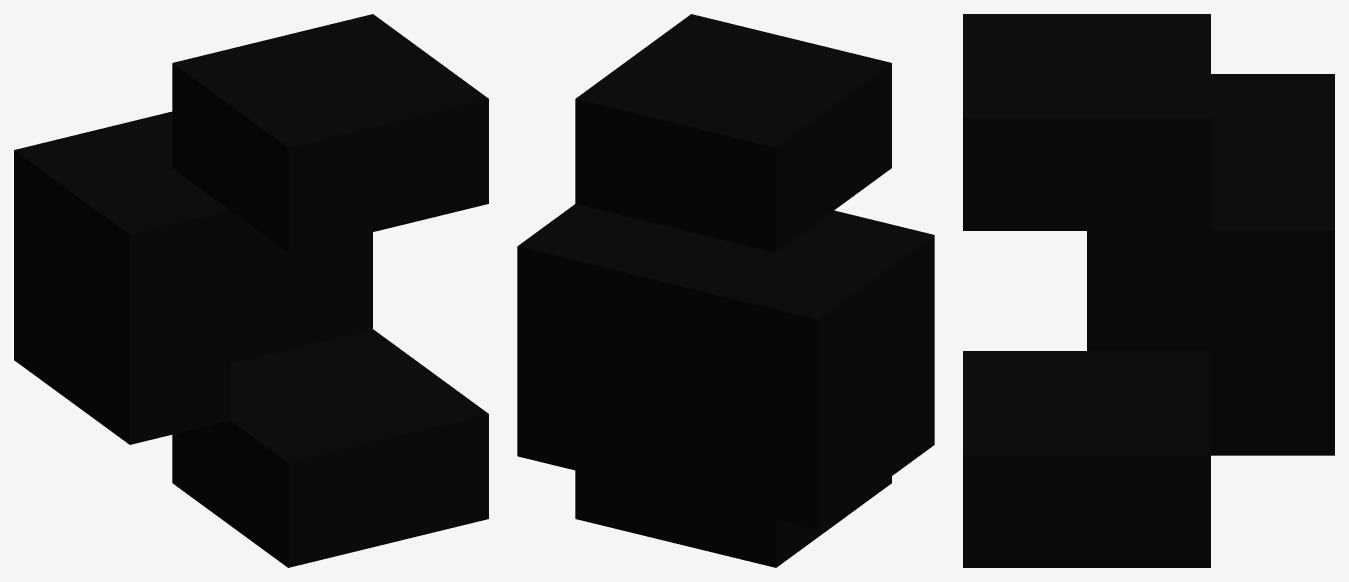
Rendered from Slider_Empty_Left.002.fbx.
3 renders of one model, left to right at view 1: azimuth 30°, elevation 25°; view 2: azimuth 150°, elevation 25°; view 3: azimuth 270°, elevation 25°, orthographic. The views are drawn at different scales.
Parts seen in each view (by area): view 1: Slider_Empty_Left.002; view 2: Slider_Empty_Left.002; view 3: Slider_Empty_Left.002.
Boxes of the visible parts, <box> form: Slider_Empty_Left.002: <box>14,14,488,567</box>; Slider_Empty_Left.002: <box>517,14,934,567</box>; Slider_Empty_Left.002: <box>963,14,1334,567</box>.
Size of the model in its own units: 0.3 by 0.4 by 0.3.
